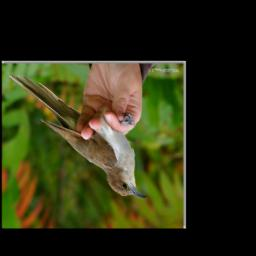Cuckoo: (7, 74, 147, 201)
